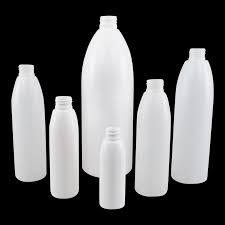Container for household chemicals: (3, 5, 224, 217)
